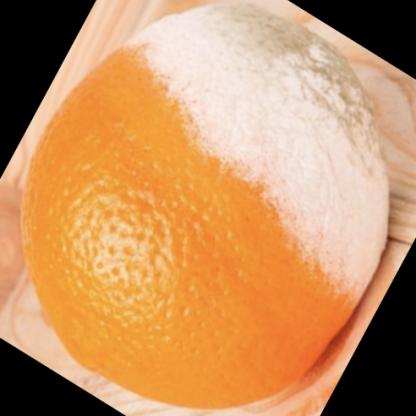rotten: (26, 2, 393, 408)
